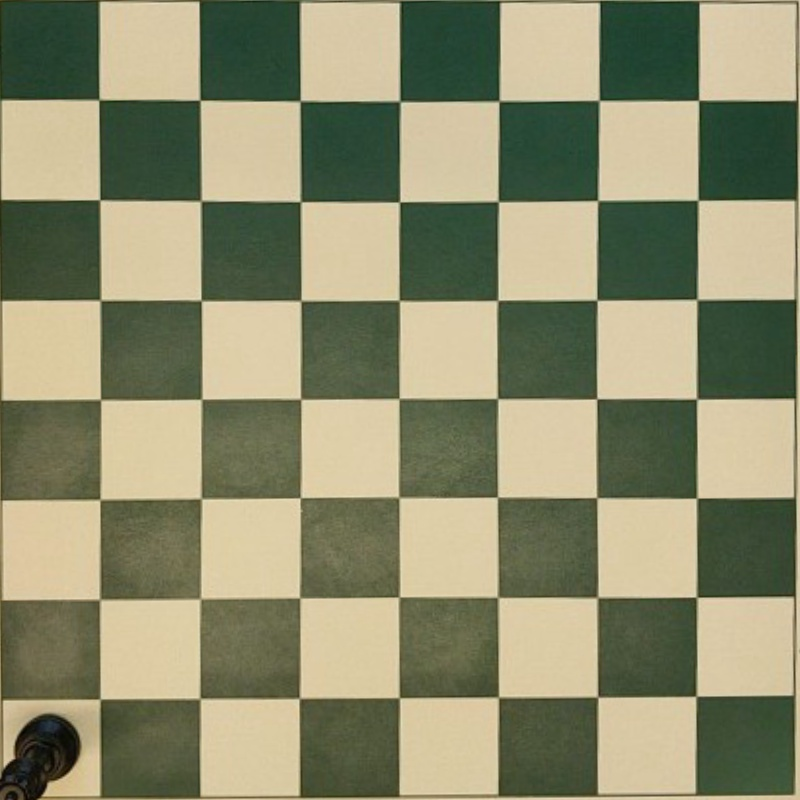black-queen: (0, 713, 81, 800)
